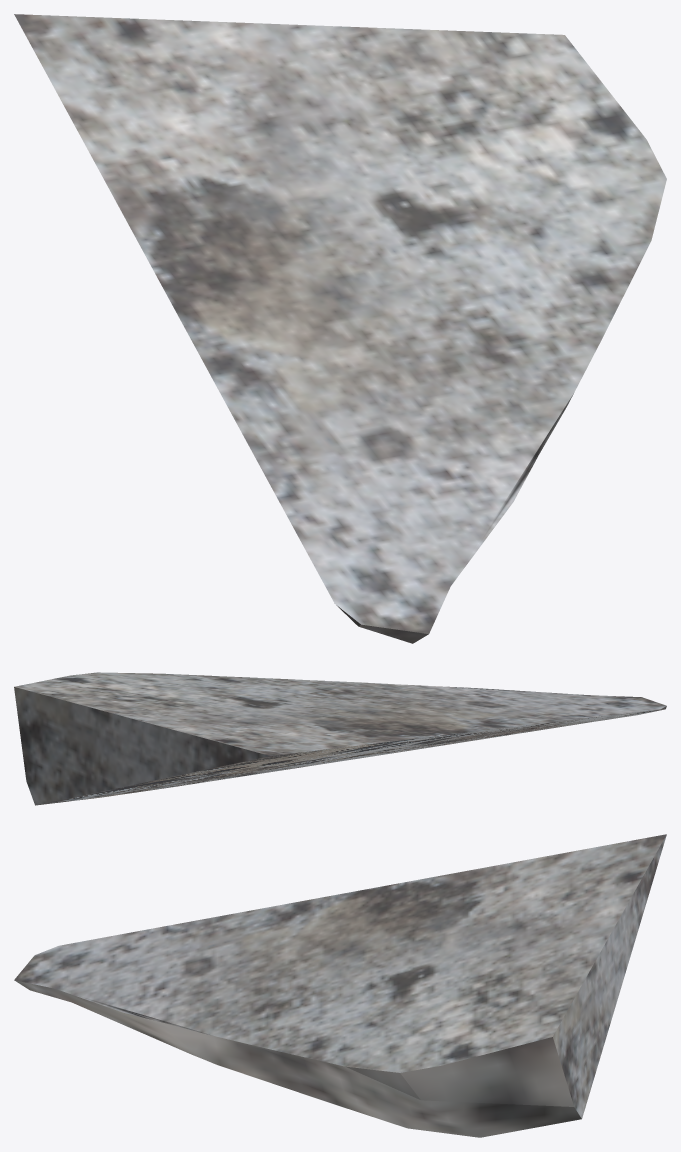
Rendered from Asteroid_Large_001_02_007_03_018.fbx.
The picture shows the model from 3 angles, top to bottom: view 1: azimuth 30°, elevation 25°; view 2: azimuth 150°, elevation 25°; view 3: azimuth 270°, elevation 25°; orthographic projection. The views are drawn at different scales.
Parts seen in each view (by area): view 1: Asteroid_Large_001_02_007_03_018; view 2: Asteroid_Large_001_02_007_03_018; view 3: Asteroid_Large_001_02_007_03_018.
Part boxes in pixels (x1,y1,x2,y2): Asteroid_Large_001_02_007_03_018: (14,14,666,643); Asteroid_Large_001_02_007_03_018: (14,672,666,805); Asteroid_Large_001_02_007_03_018: (14,834,666,1137).
Bounding box in the file's own units: 5.67 × 2.48 × 7.97.
